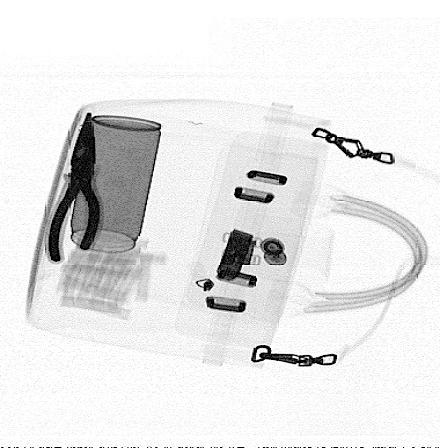Pliers: (45, 110, 104, 264)
